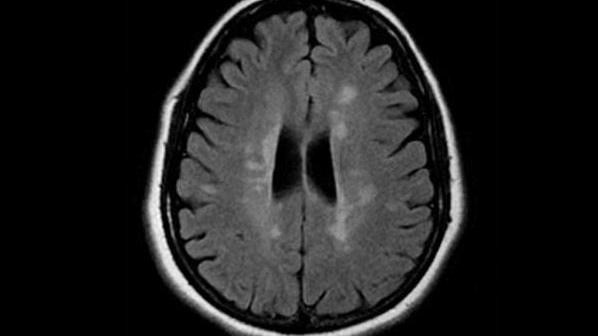Normal_Brain: (26, 1, 590, 336)
